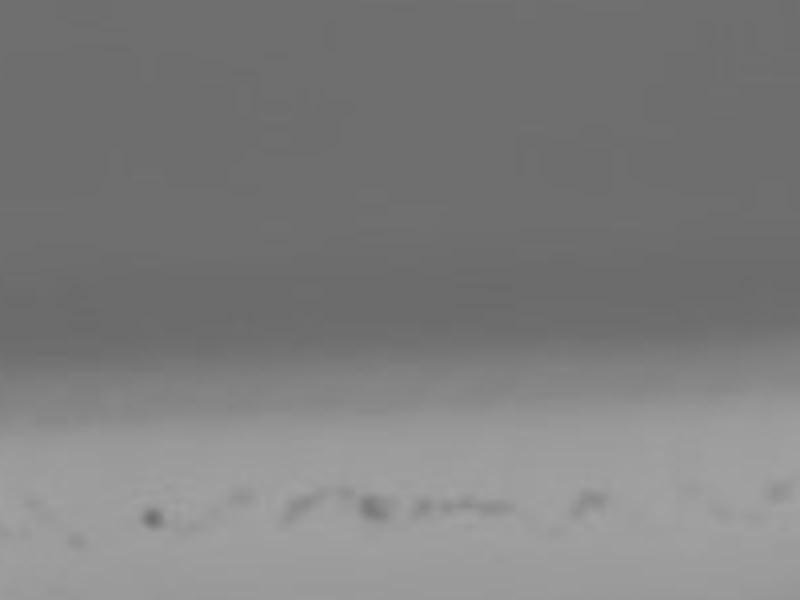defect: (357, 491, 393, 524), (570, 485, 606, 517), (764, 475, 798, 504), (137, 504, 168, 533), (230, 482, 260, 511), (276, 500, 301, 527), (705, 498, 732, 523), (474, 497, 516, 512), (296, 487, 324, 509), (742, 507, 767, 531), (64, 528, 86, 554), (19, 493, 45, 514), (178, 516, 202, 538), (413, 495, 433, 520), (546, 518, 565, 540), (335, 480, 354, 499), (456, 493, 473, 510), (440, 498, 454, 514)
